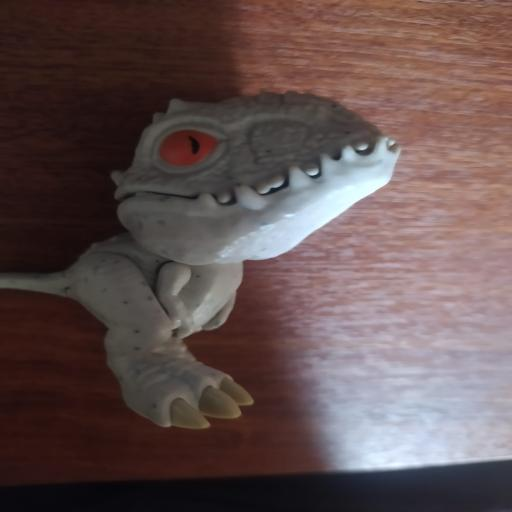Dinosaurio: (1, 75, 415, 438)
